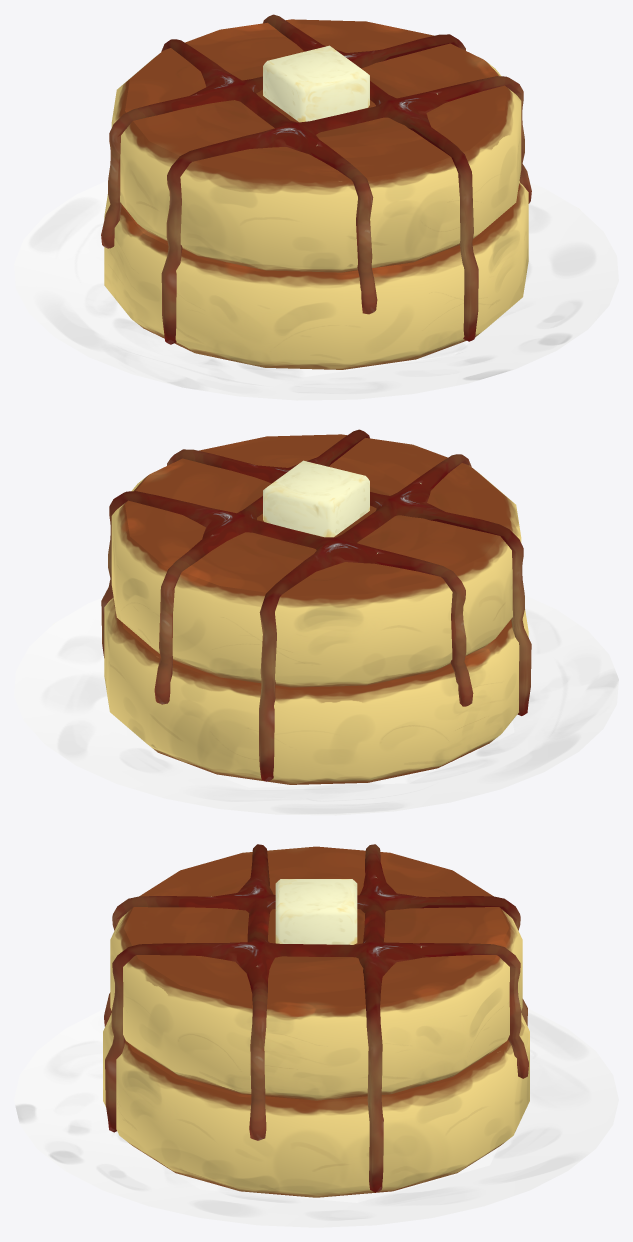
The model's file is fluffy_pancakes.glb.
The picture shows the model from 3 angles, top to bottom: view 1: azimuth 30°, elevation 25°; view 2: azimuth 150°, elevation 25°; view 3: azimuth 270°, elevation 25°; orthographic projection.
Visible parts, largest first — view 1: Cylinder.001, Circle, Cylinder, object 1, Cube; view 2: Cylinder.001, Circle, Cylinder, object 1, Cube; view 3: Cylinder.001, Circle, Cylinder, object 1, Cube.
Part boxes in pixels (box(x1,y1,x2,y2)): Cylinder.001: box(111, 19, 521, 272); Circle: box(14, 180, 618, 400); Cylinder: box(104, 181, 528, 369); object 1: box(101, 14, 531, 344); Cube: box(263, 45, 369, 122); Cylinder.001: box(111, 434, 521, 687); Circle: box(14, 595, 618, 815); Cylinder: box(104, 598, 528, 784); object 1: box(101, 429, 531, 781); Cube: box(263, 460, 369, 537); Cylinder.001: box(110, 846, 522, 1100); Circle: box(14, 1008, 618, 1227); Cylinder: box(103, 1013, 529, 1197); object 1: box(104, 844, 528, 1192); Cube: box(275, 879, 357, 944).
Size of the model in its own units: 6.84 by 2.77 by 6.84.
1 material, 1 textured.
